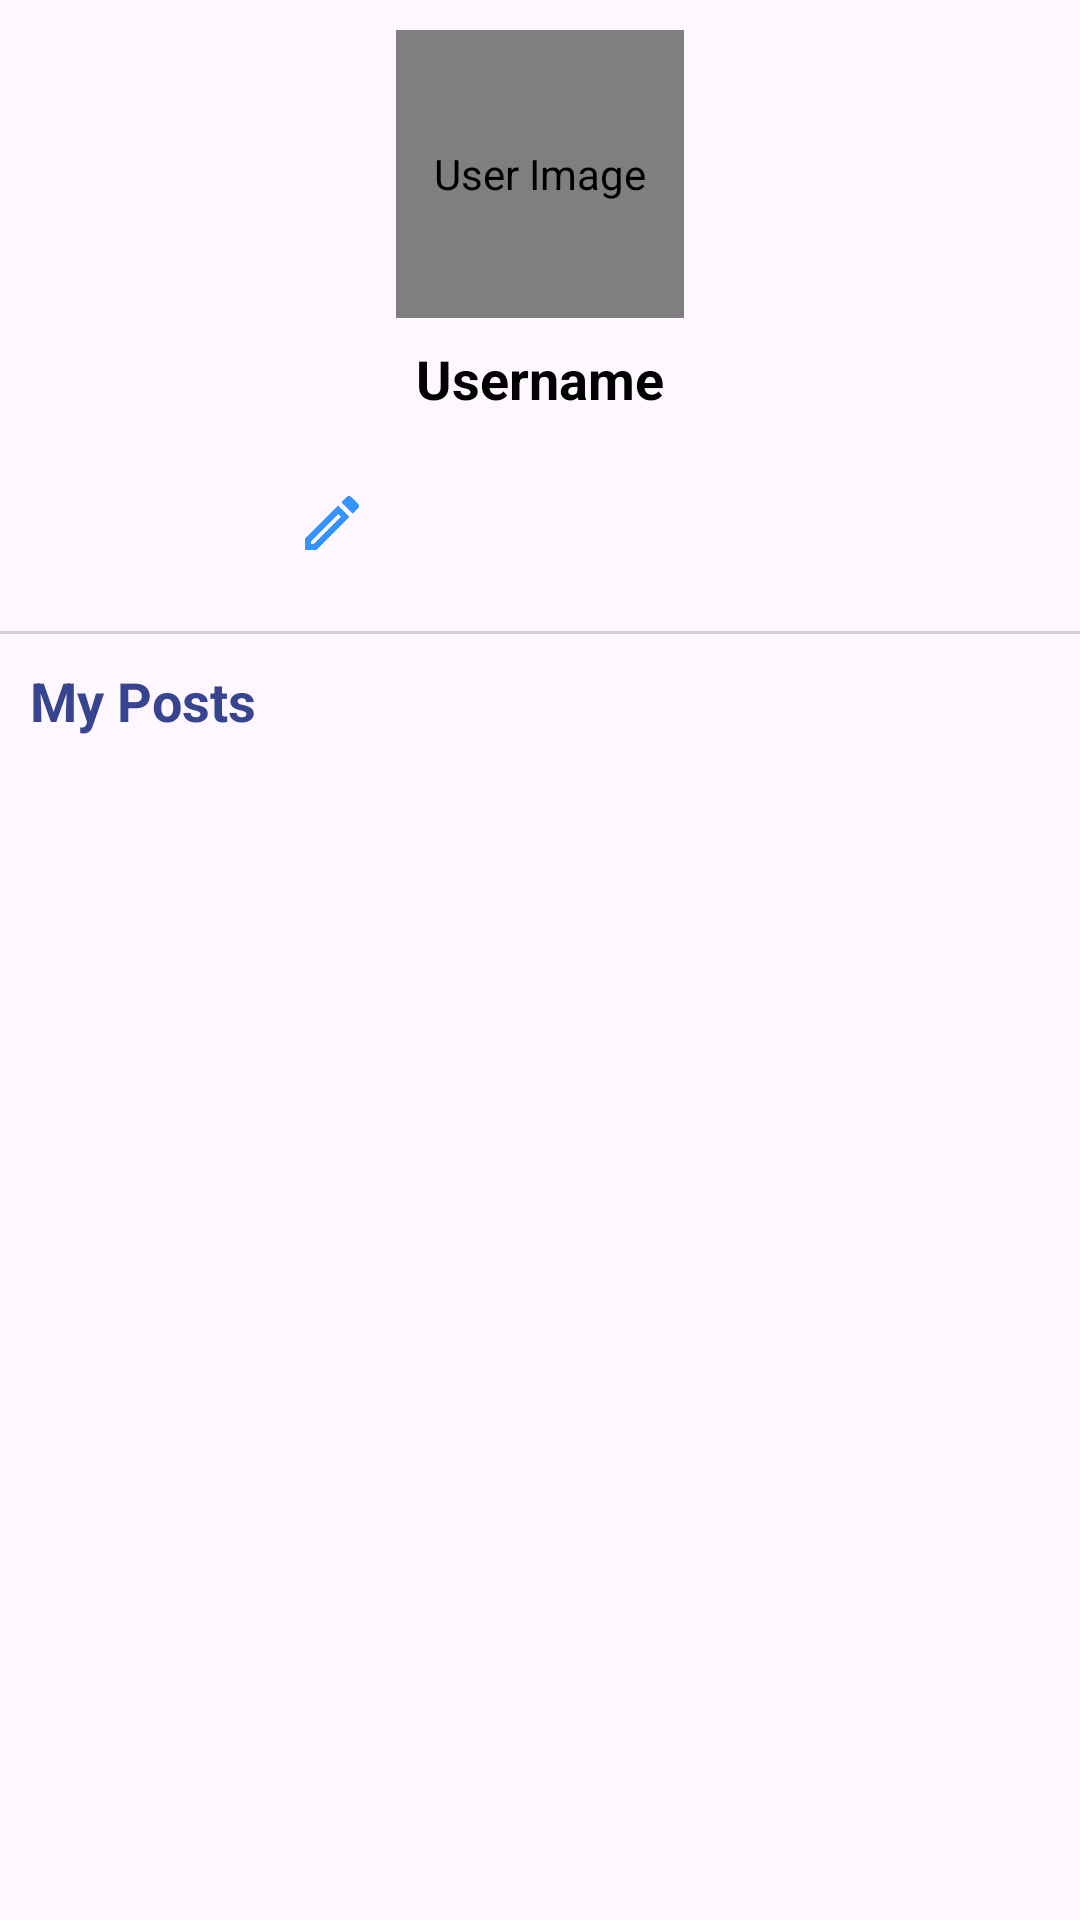

Icons on this 1080px x 1920px Android screen, each with its box as bbox=[x1, y1, x2, y2]:
Edit Profile: bbox=[305, 496, 359, 550]
